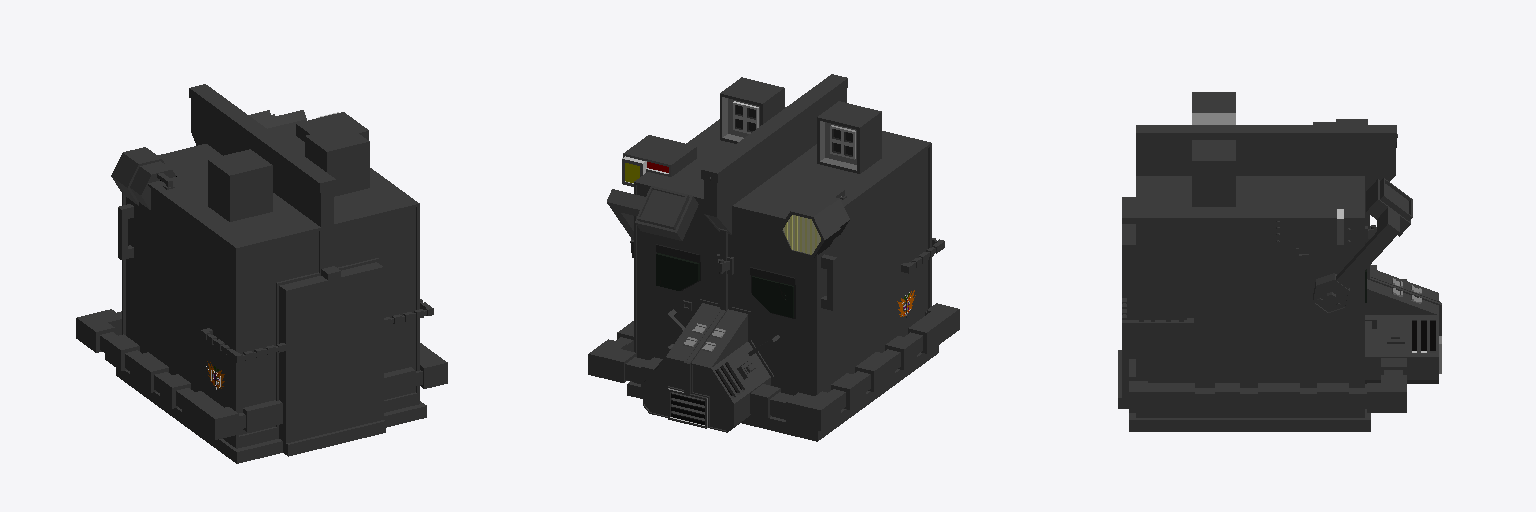
File: t60head.obj
3 views of the same model, side by side, from view 1: azimuth 30°, elevation 25°; view 2: azimuth 150°, elevation 25°; view 3: azimuth 270°, elevation 25° (orthographic).
Parts seen in each view (by area): view 1: Mesh03_Mesh03.003, TubeR2_TubeR2.001, Group3_Group3.001, TubeR1_TubeR1.001, TubeR3_TubeR3.001, Mesh05_Mesh05.003; view 2: Mesh03_Mesh03.003, TubeR2_TubeR2.001, Group3_Group3.001, TubeR1_TubeR1.001, Mesh05_Mesh05.003; view 3: Mesh03_Mesh03.003, TubeR1_TubeR1.001, TubeR4_TubeR4.001.
Part boxes in pixels (x1,y1,x2,y2): Mesh03_Mesh03.003: (116, 84, 426, 463); TubeR2_TubeR2.001: (76, 309, 415, 439); Group3_Group3.001: (111, 147, 175, 209); TubeR1_TubeR1.001: (243, 343, 447, 431); TubeR3_TubeR3.001: (201, 328, 286, 362); Mesh05_Mesh05.003: (118, 204, 133, 259); Mesh03_Mesh03.003: (607, 74, 938, 441); TubeR2_TubeR2.001: (750, 303, 959, 430); Group3_Group3.001: (779, 194, 849, 257); TubeR1_TubeR1.001: (588, 321, 662, 387); Mesh05_Mesh05.003: (821, 254, 836, 310); Mesh03_Mesh03.003: (1118, 92, 1441, 431); TubeR1_TubeR1.001: (1129, 358, 1406, 412); TubeR4_TubeR4.001: (1122, 298, 1193, 328).
Size of the model in its own units: 1.21 by 1.28 by 1.45.